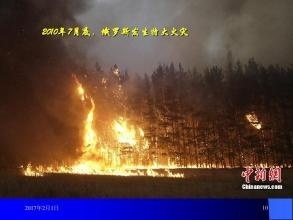fire: (28, 76, 158, 178), (243, 110, 264, 130)
